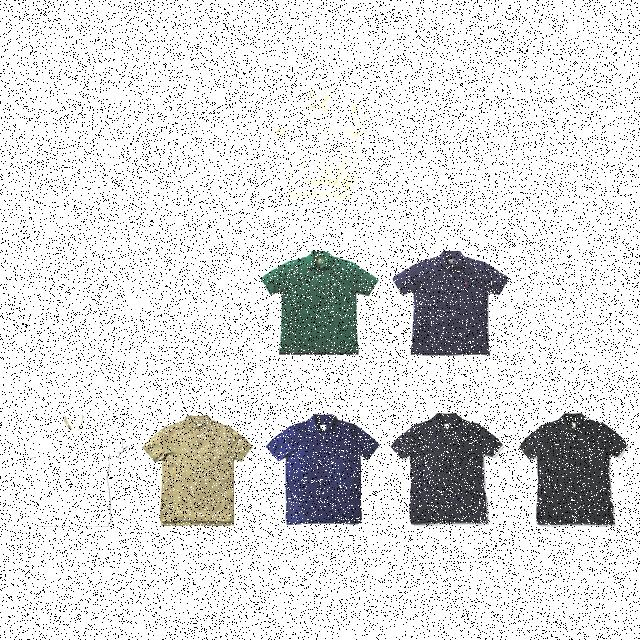dress: (514, 409, 633, 527), (394, 411, 510, 526), (144, 409, 255, 528), (127, 245, 245, 356), (19, 415, 128, 532), (262, 89, 375, 201), (272, 412, 378, 528), (261, 251, 377, 357), (395, 252, 509, 358)
